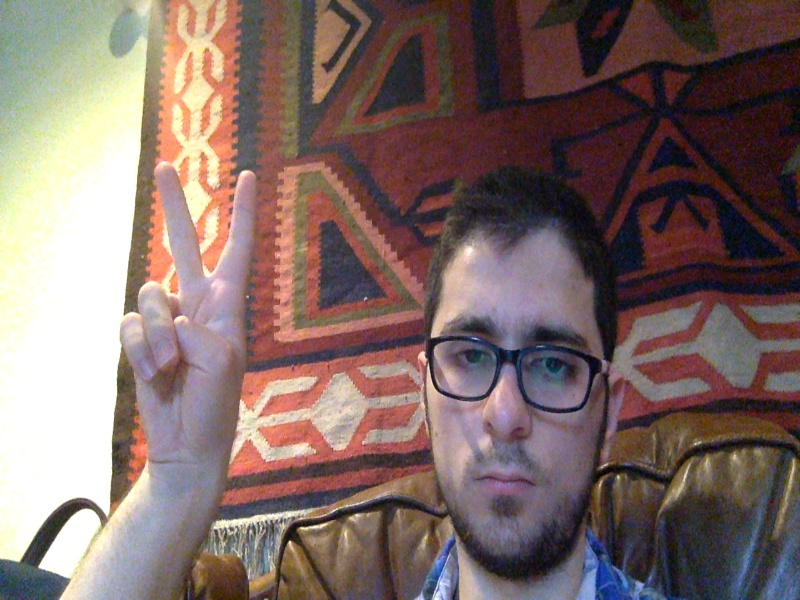2-hand: (121, 163, 257, 477)
